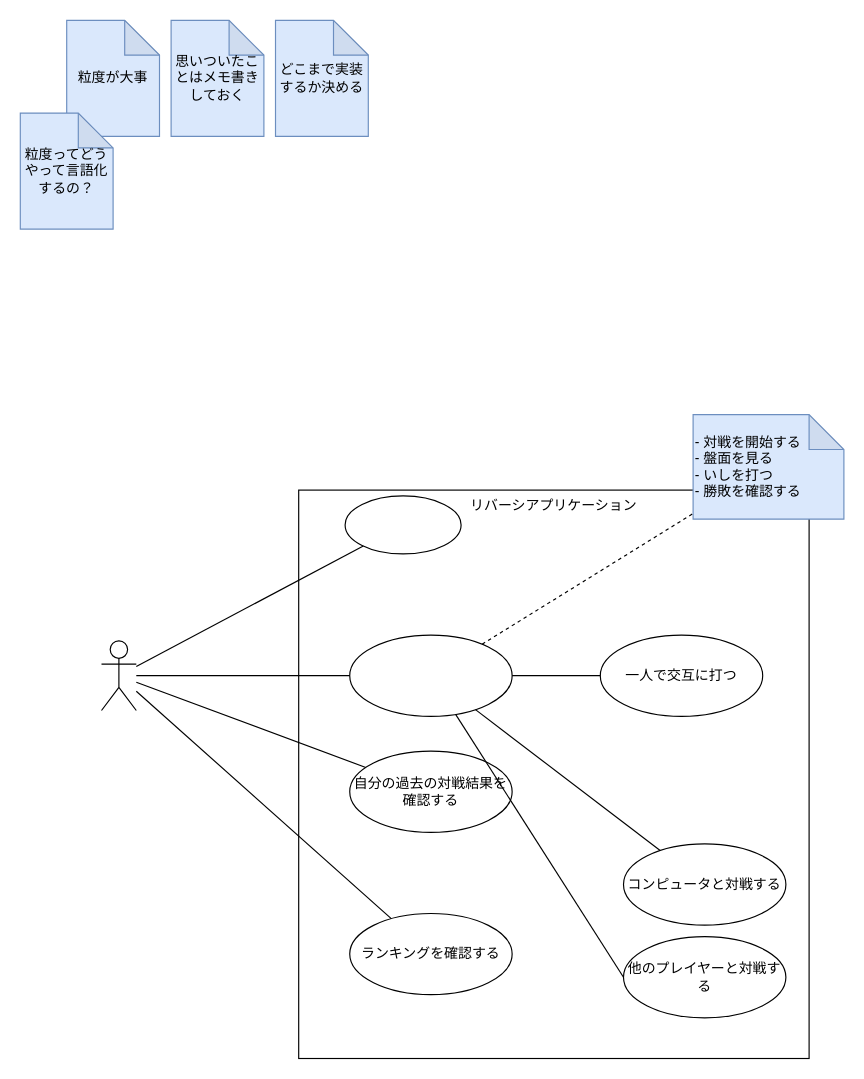
Some shapes in this 864 by 1079 pixel diagram are drawn without their labels. Each missing label, with the box of its shape:
プレイヤー: (100, 640, 136, 710)
会員登録・ログイン・ログアウト: (344, 495, 461, 554)
対戦する: (349, 634, 512, 716)
